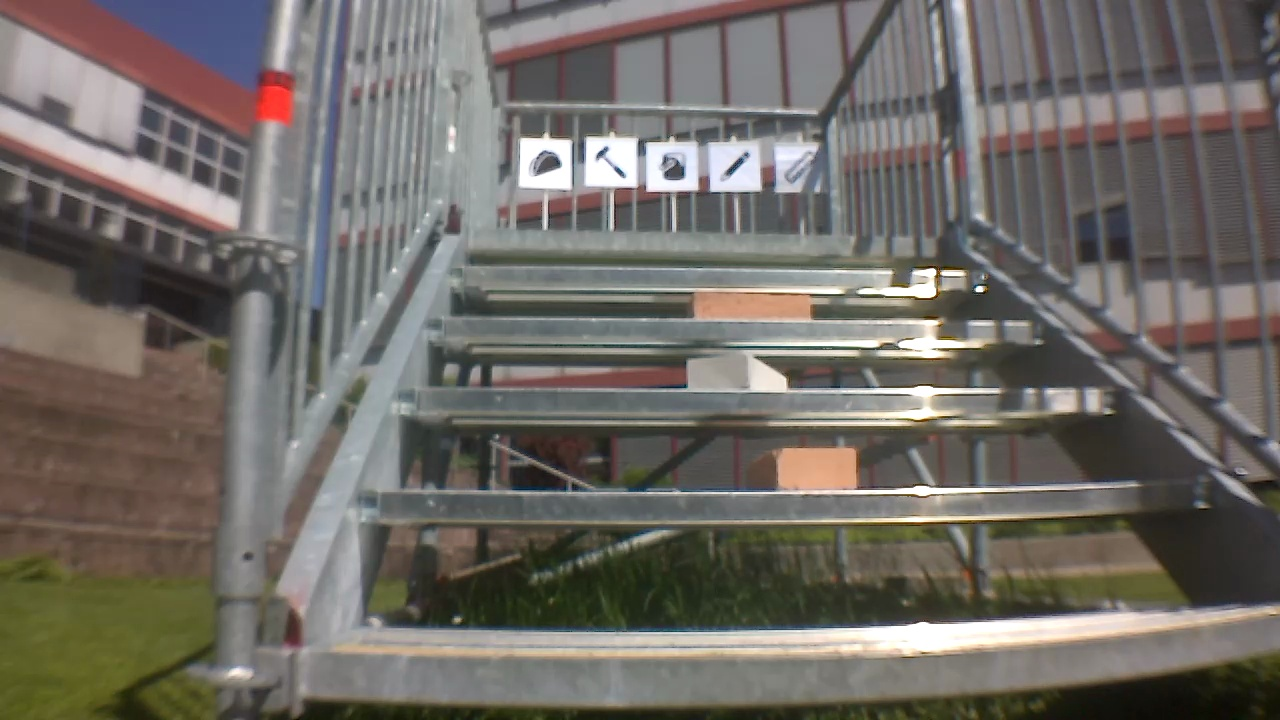brick: (679, 350, 786, 394), (771, 444, 858, 496), (691, 288, 815, 322)
edge: (293, 607, 1280, 697), (350, 473, 1221, 532), (395, 385, 1133, 417), (422, 321, 1048, 350), (443, 268, 996, 293), (467, 230, 948, 257)
stairs: (229, 0, 1280, 701)
steps: (282, 227, 1280, 694)
